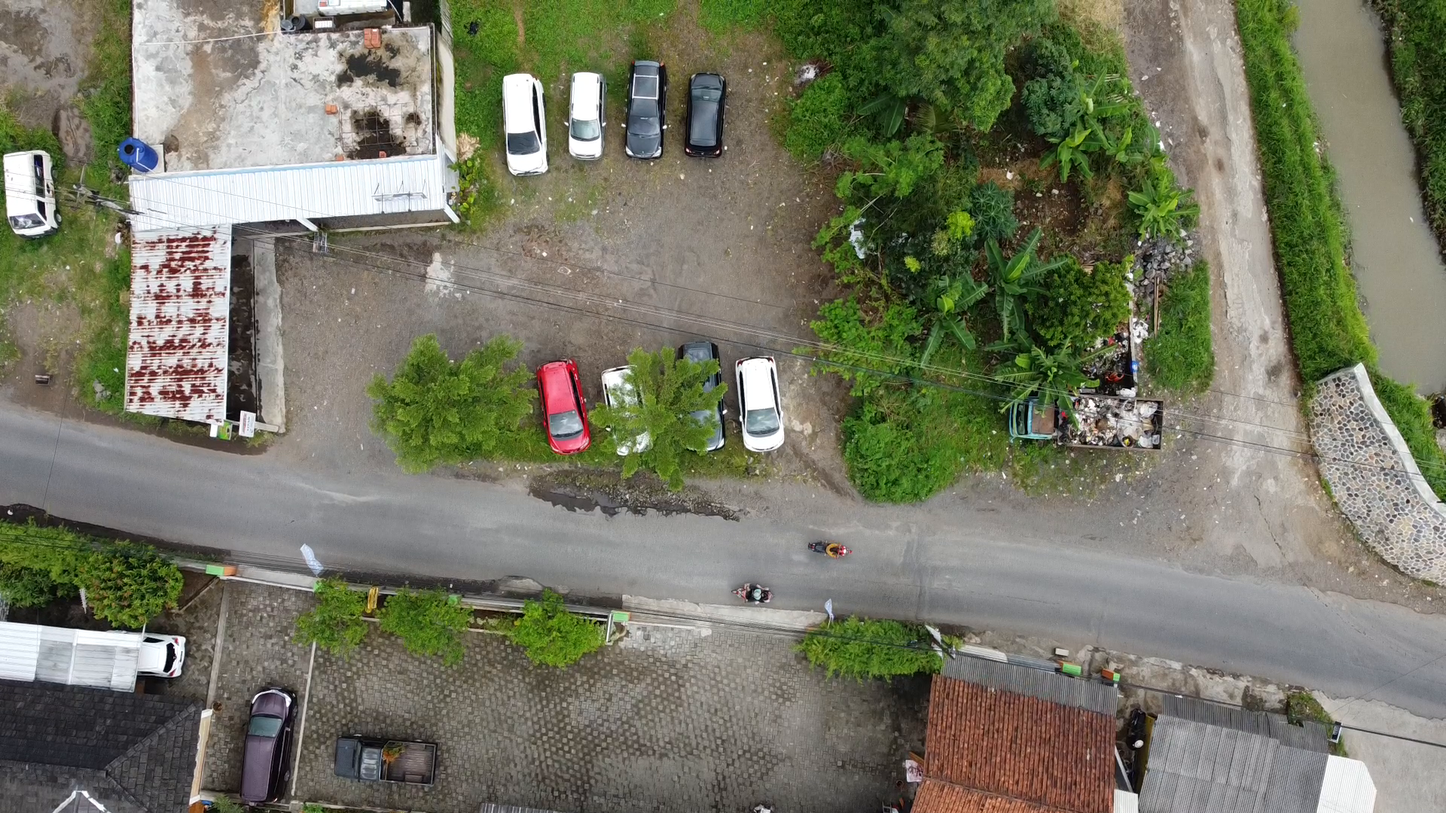mobil: (236, 686, 305, 805), (621, 51, 685, 173), (667, 335, 732, 452), (331, 726, 442, 793), (5, 146, 75, 250), (730, 347, 794, 460), (493, 65, 554, 183), (532, 355, 595, 456), (680, 62, 735, 175), (595, 361, 654, 464), (563, 60, 611, 171), (135, 635, 197, 690)
